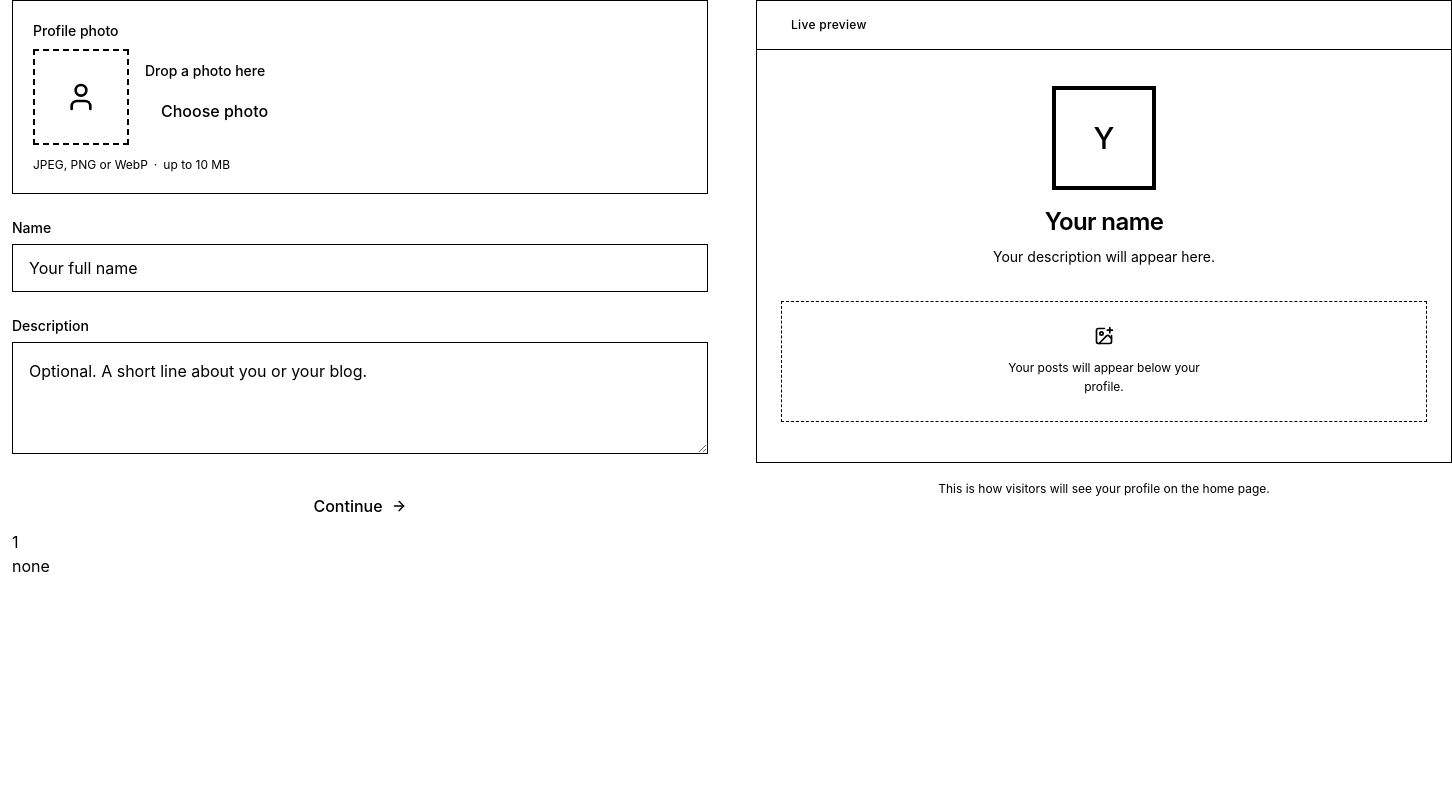
Test: ProfileStep › Given a failed save, should show the translated error and stay on step 1
Type "Grace" into the field labelled "Name" at (360,268), box x1=12 y1=244 x2=708 y2=292
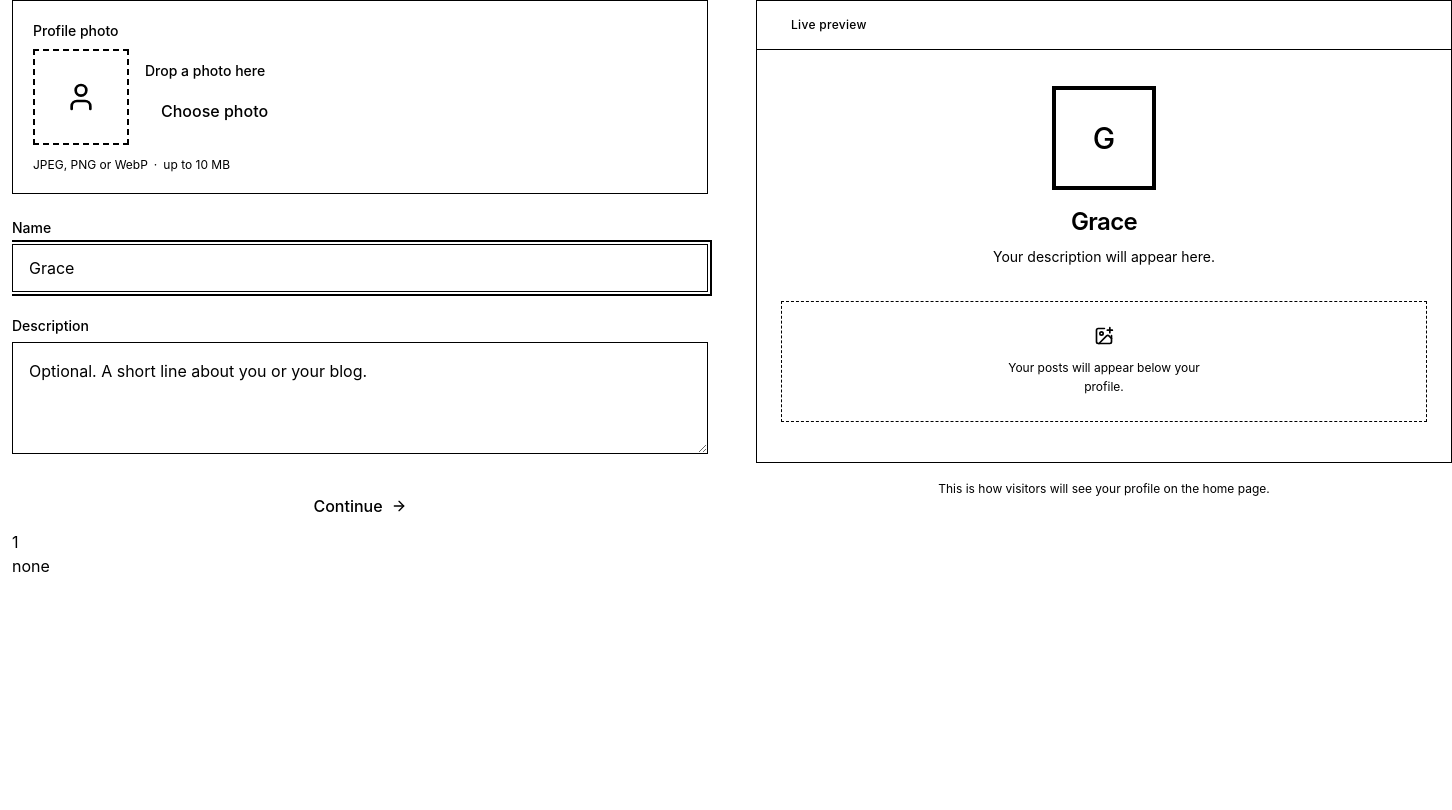
Click the button "Continue" at (360,506), box x1=12 y1=482 x2=708 y2=530
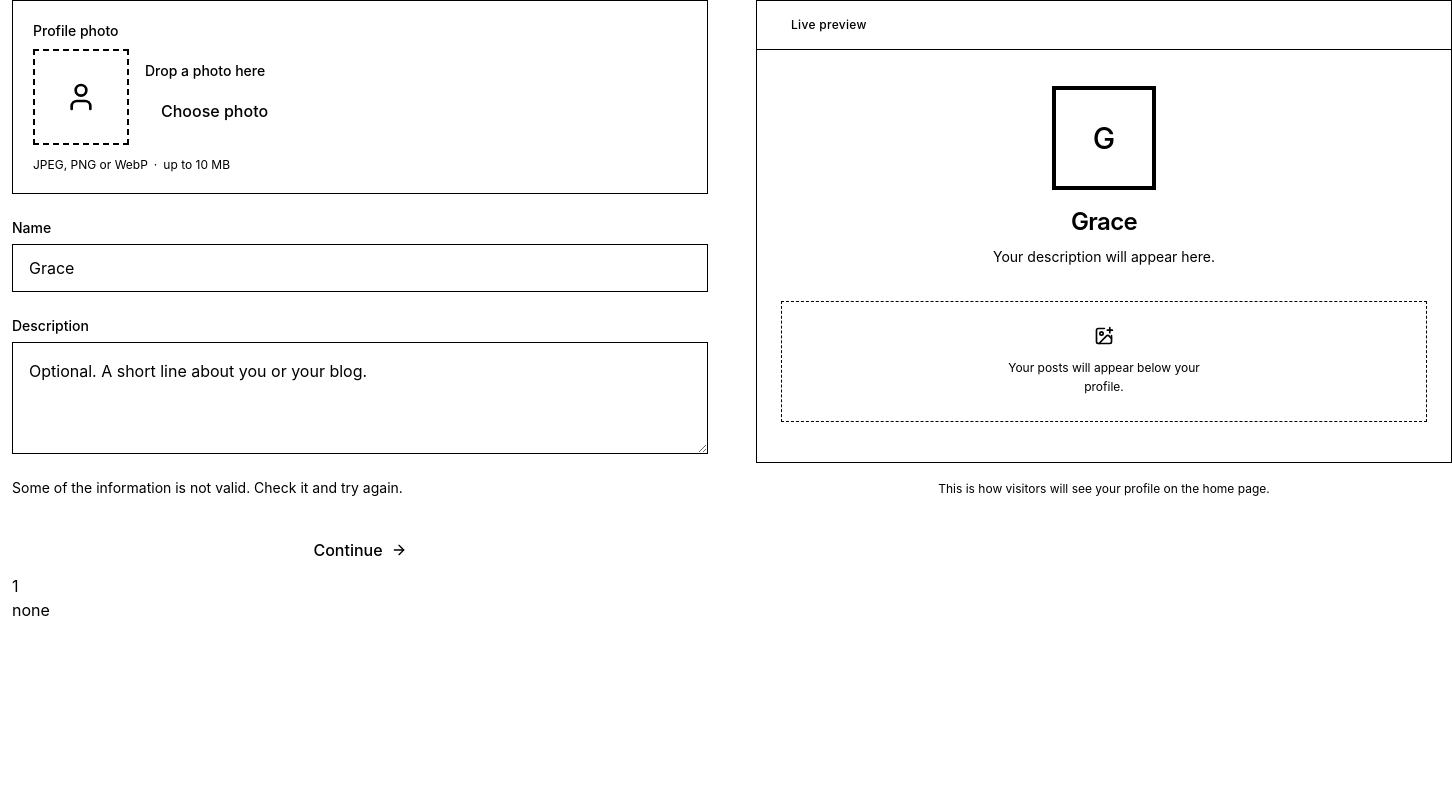
Expected: the text with test id "step" reads "1", x1=12 y1=576 x2=18 y2=596
Expected: the message shows "Some of the information is not valid.", x1=12 y1=479 x2=403 y2=496
